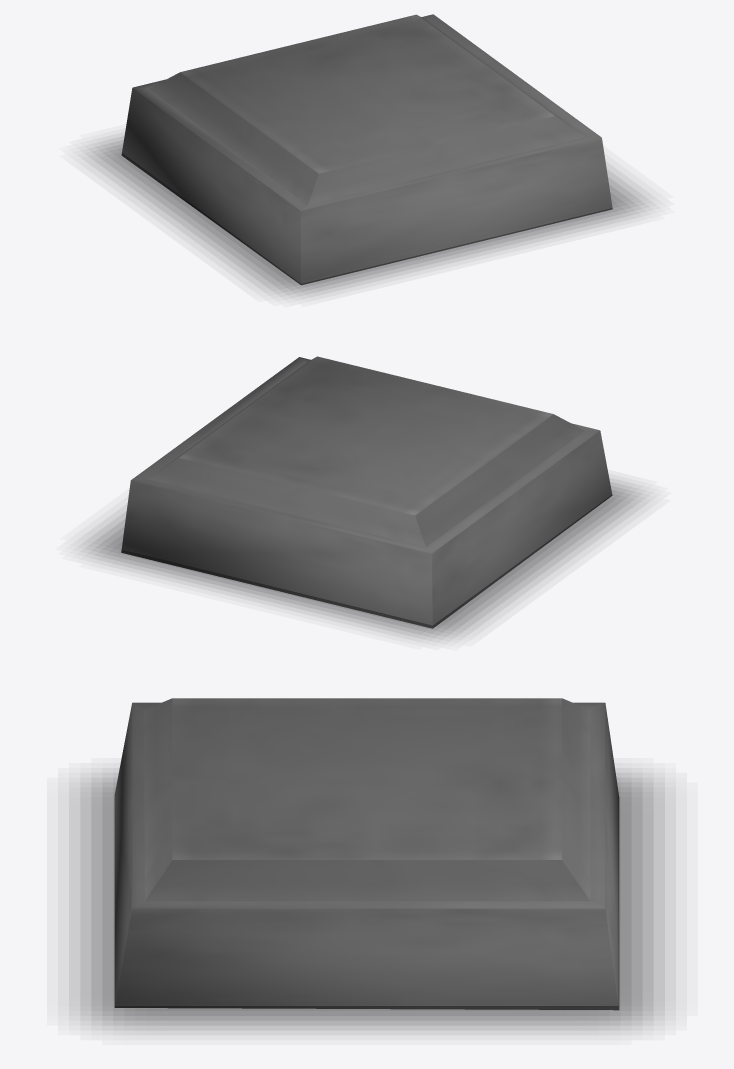
Rendered from garden_slab.glb.
3 views of the same model, one above another, from view 1: azimuth 30°, elevation 25°; view 2: azimuth 150°, elevation 25°; view 3: azimuth 270°, elevation 25° (orthographic). The views are drawn at different scales.
Visible parts, largest first — view 1: slab, shadow; view 2: slab, shadow; view 3: slab, shadow.
Part boxes in pixels (x1,y1,x2,y2): slab: [121, 14, 612, 285]; shadow: [85, 136, 651, 297]; slab: [121, 356, 612, 628]; shadow: [79, 478, 648, 640]; slab: [114, 698, 619, 1010]; shadow: [69, 768, 664, 1030].
Bounding box in the file's own units: 50.07 × 9.36 × 47.99.
2 materials, 2 textured.
